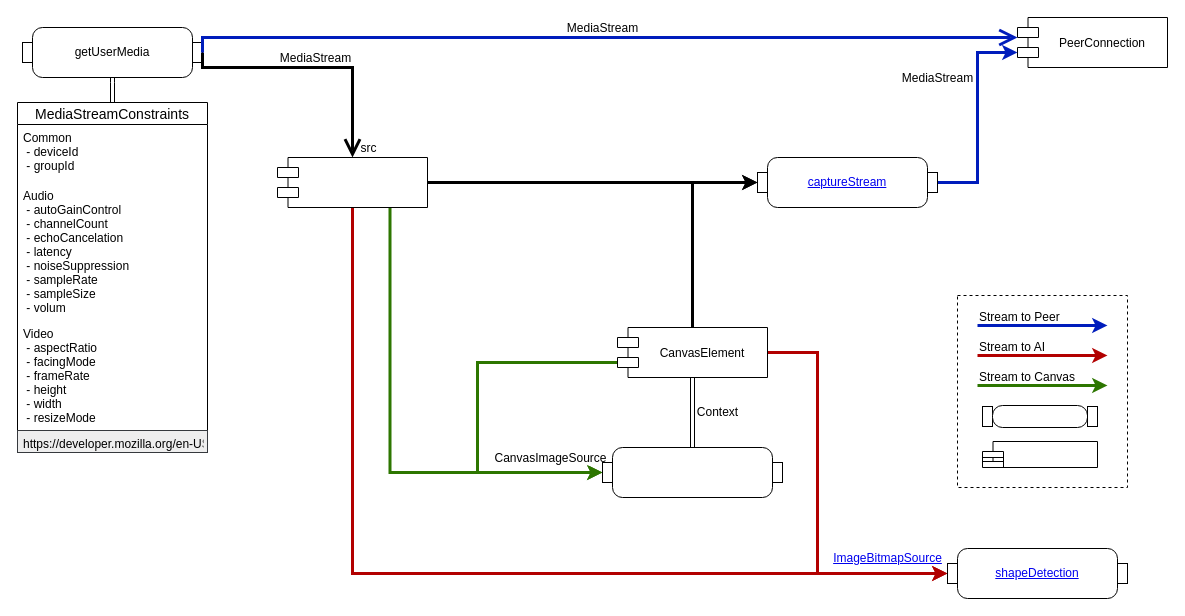
This 1185x616 diagram has some shape labels left out. Here are the shapes that lost their labels. From the top down, the centre of each, then its label:
At pixel 352 182: "VideoElement".
At pixel 1040 416: "Function".
At pixel 692 472: "drawImage".
At pixel 1040 454: "Module".
